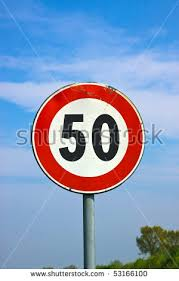Speed_limit_50km: (31, 83, 146, 193)
